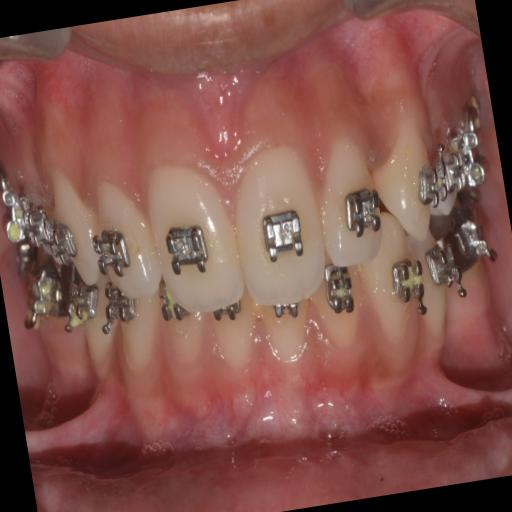correct_brace: (250, 192, 310, 276), (96, 205, 146, 288), (160, 208, 214, 284), (331, 175, 383, 252), (405, 153, 444, 218), (51, 213, 86, 272)
incorrect_brace: (309, 134, 391, 266), (90, 175, 161, 302)
